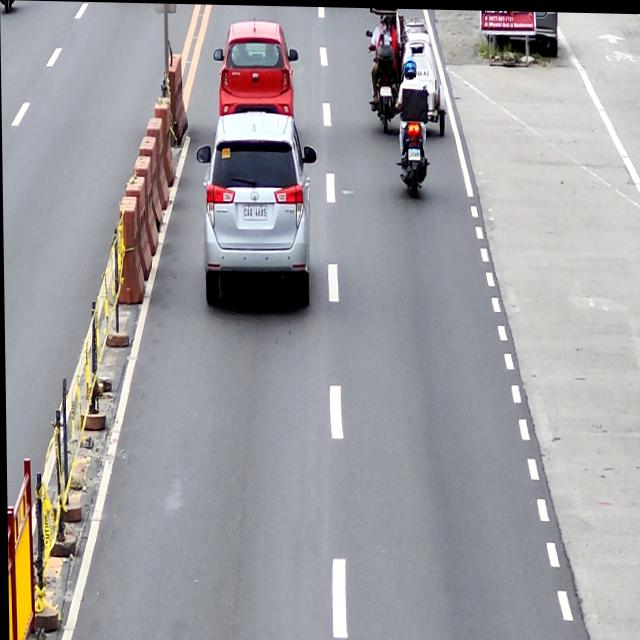Car: (196, 111, 318, 306), (214, 20, 299, 117)
License-Plate: (243, 205, 267, 219), (408, 147, 420, 161), (380, 84, 391, 94)
Motorcycle: (397, 82, 429, 199)
Tricycle: (368, 6, 447, 134)
